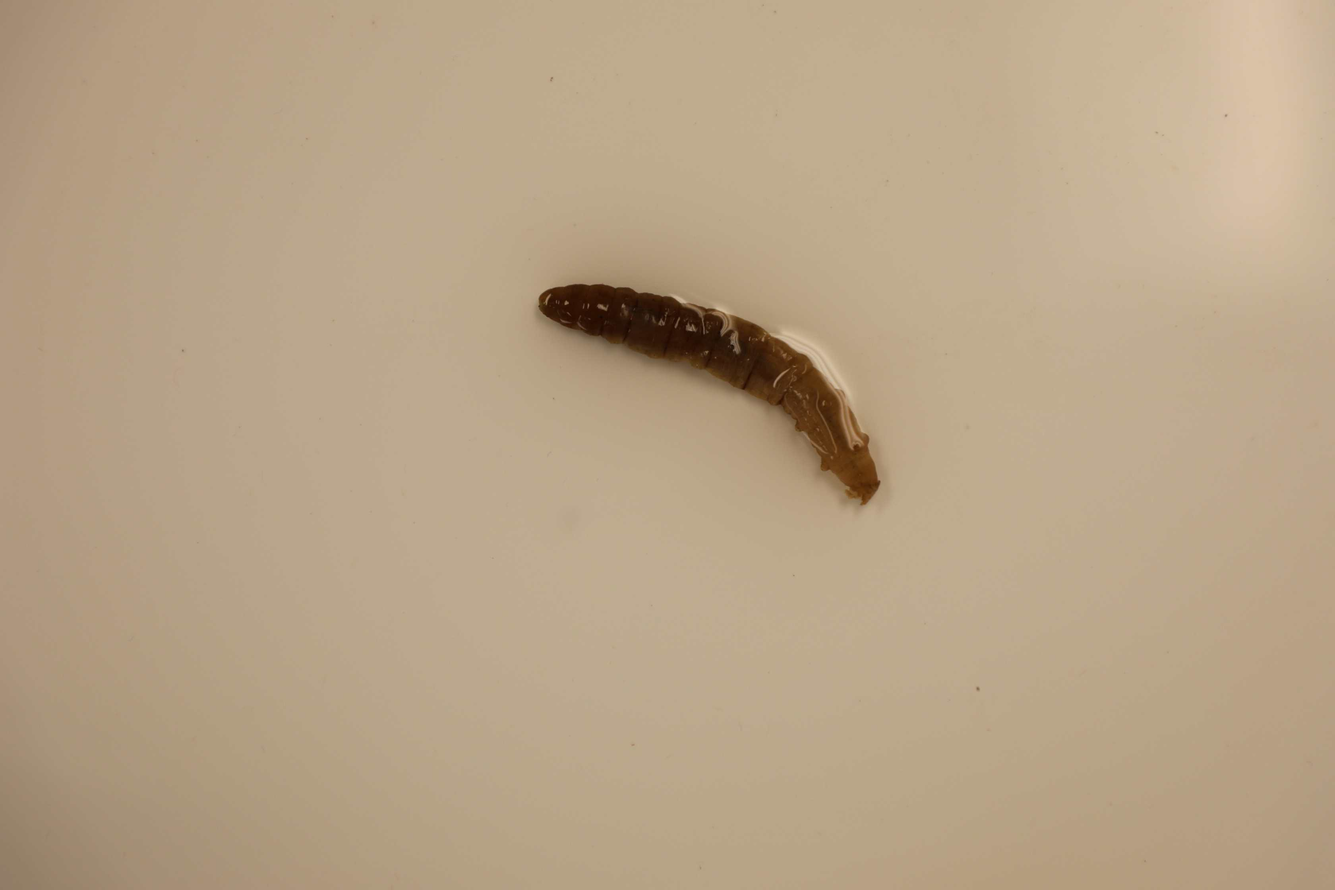Other: (540, 276, 880, 511)
